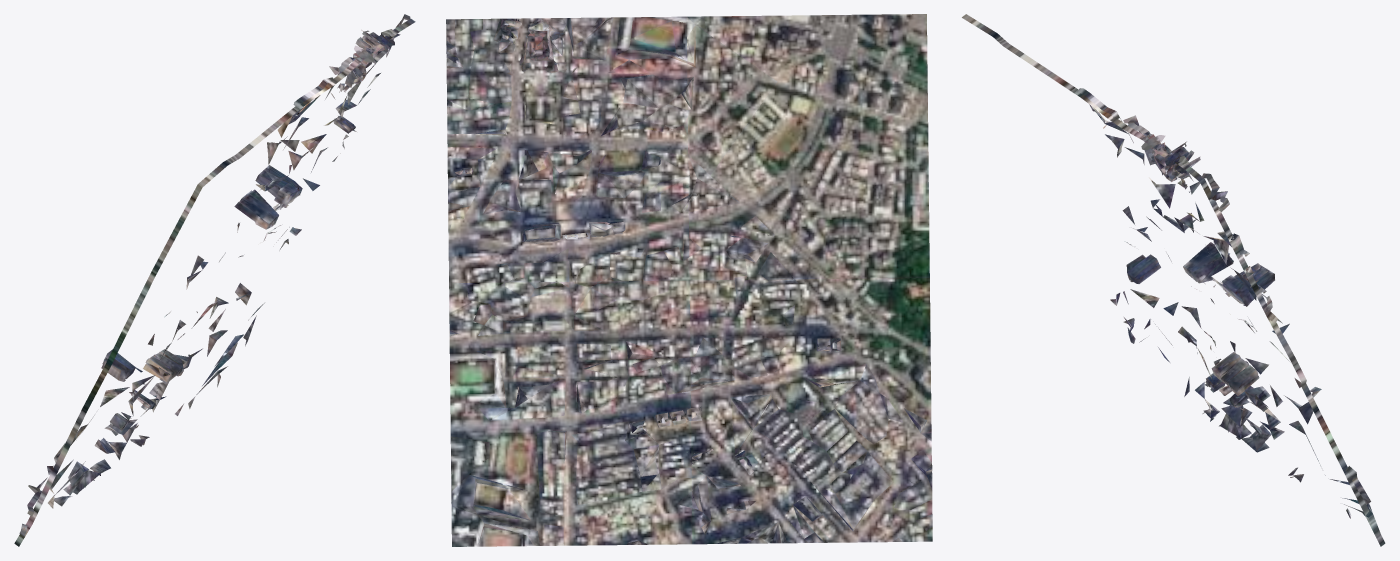
The picture shows the model from 3 angles, left to right: view 1: azimuth 30°, elevation 25°; view 2: azimuth 150°, elevation 25°; view 3: azimuth 270°, elevation 25°; orthographic projection. The views are drawn at different scales.
Bounding box in the file's own units: 1225 × 1135 × 1030.
Materials: 2 (2 with a texture image).
